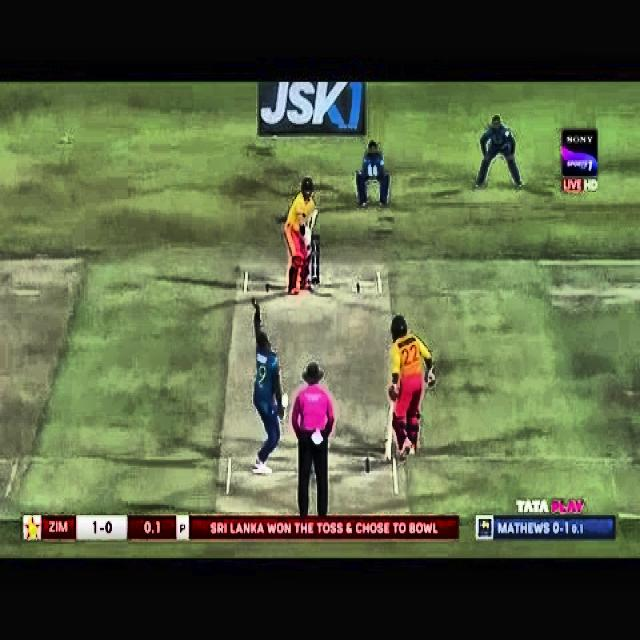Middle-stump: (312, 237, 314, 282)
Right-stump: (316, 236, 319, 282)
